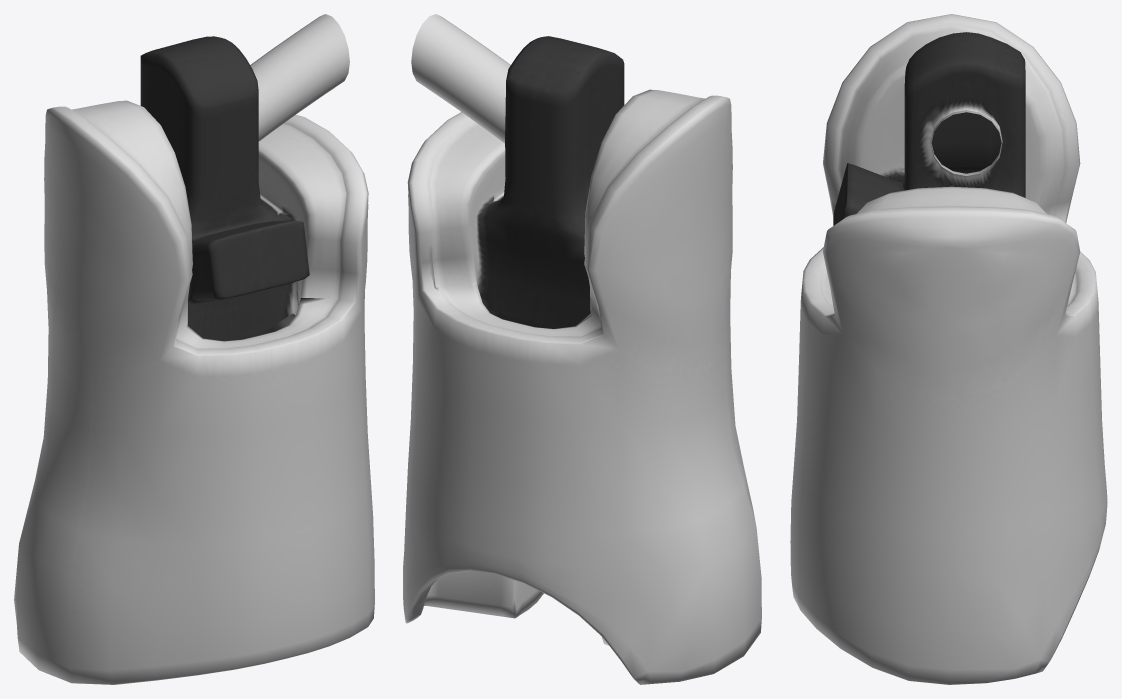
The model's file is left_leg.obj.
3 views of the same model, side by side, from view 1: azimuth 30°, elevation 25°; view 2: azimuth 150°, elevation 25°; view 3: azimuth 270°, elevation 25° (orthographic).
Visible parts, largest first — view 1: transform34 _Robot_l2:Body; view 2: transform34 _Robot_l2:Body; view 3: transform34 _Robot_l2:Body.
Part boxes in pixels (box(x1,y1,x2,y2)): transform34 _Robot_l2:Body: box(14, 14, 374, 684); transform34 _Robot_l2:Body: box(403, 14, 761, 684); transform34 _Robot_l2:Body: box(790, 14, 1107, 684).
Size of the model in its own units: 3.73 by 6.49 by 3.26.
1 material, 1 textured.
